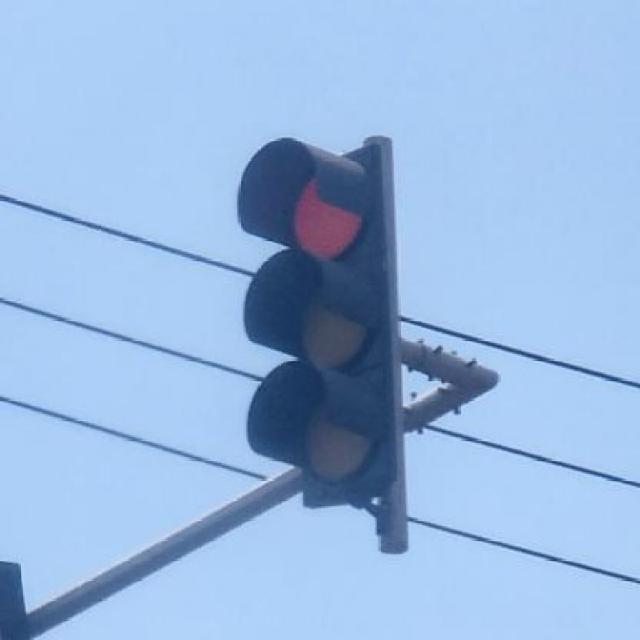traffic light: (239, 140, 399, 512)
